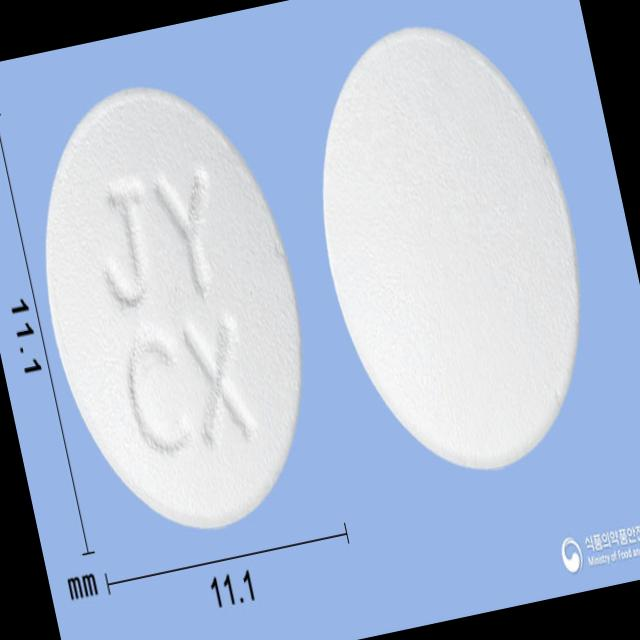Ciroxin: (2, 54, 344, 564)
